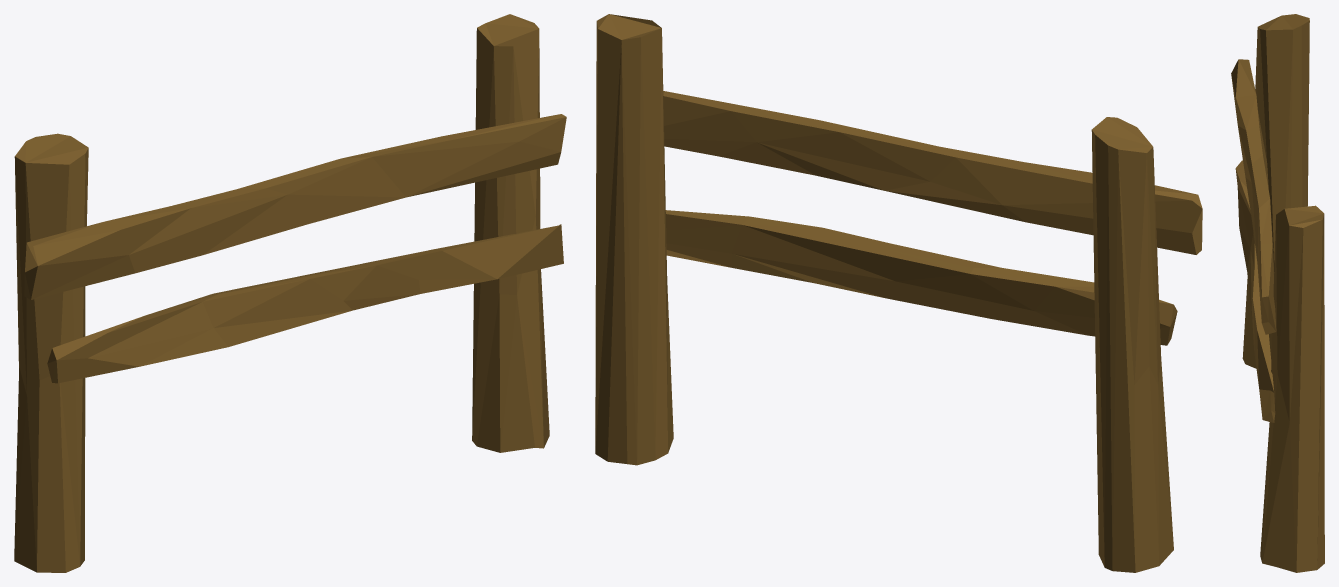
File: Prototype Fence 02.FBX
3 views of the same model, side by side, from view 1: azimuth 30°, elevation 25°; view 2: azimuth 150°, elevation 25°; view 3: azimuth 270°, elevation 25° (orthographic). The views are drawn at different scales.
Visible parts, largest first — view 1: Prototype Fence 02; view 2: Prototype Fence 02; view 3: Prototype Fence 02.
Part boxes in pixels (x1,y1,x2,y2): Prototype Fence 02: [14, 14, 566, 572]; Prototype Fence 02: [595, 14, 1202, 572]; Prototype Fence 02: [1231, 14, 1324, 572].
Size of the model in its own units: 105 by 18.37 by 75.82.
